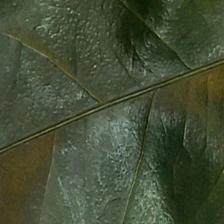healthy: (6, 7, 224, 170)
